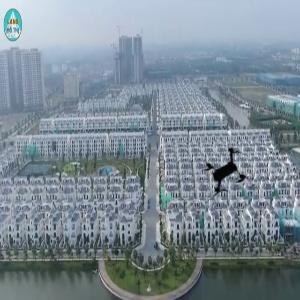drone: (199, 146, 261, 208)
